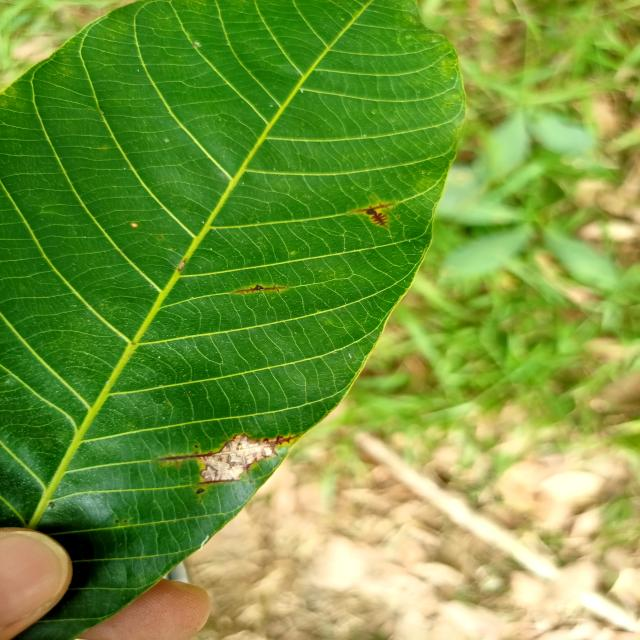Colletotrichum: (132, 224, 138, 228), (195, 445, 199, 448)
Corynespora: (156, 433, 299, 486), (348, 202, 395, 228), (231, 285, 289, 295), (196, 478, 242, 486)
Leaf-Blight: (201, 435, 273, 480)
